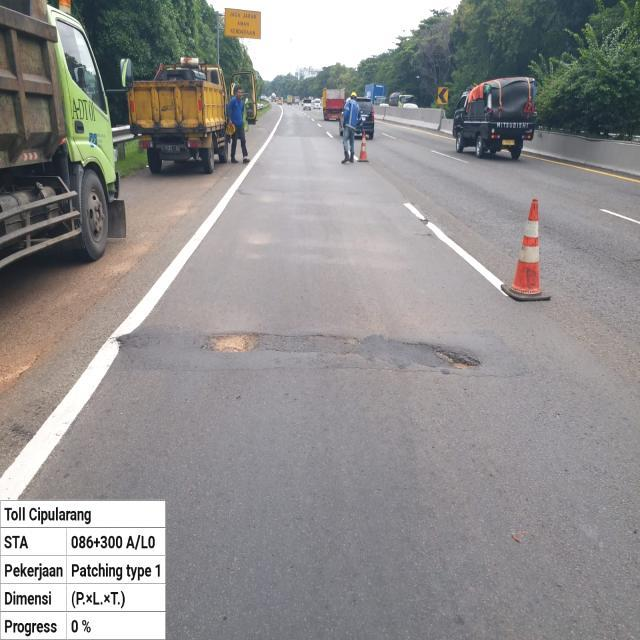Buraco: (198, 331, 262, 355), (428, 345, 483, 371)
